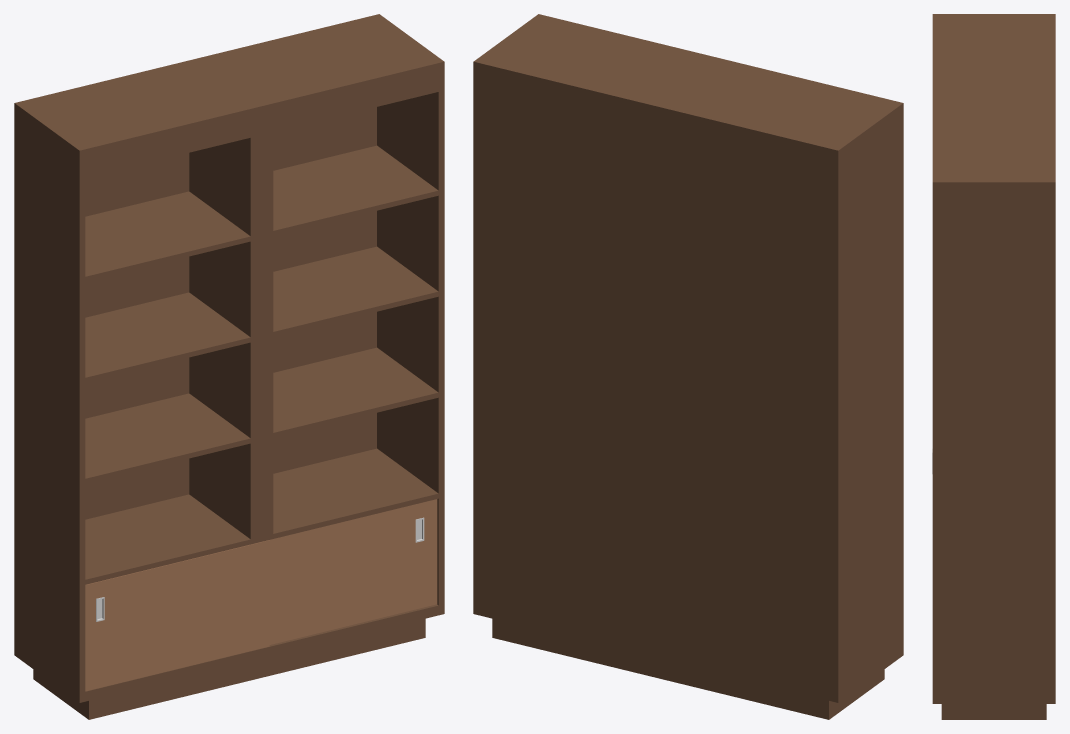
Rendered from Librero.fbx.
3 renders of one model, left to right at view 1: azimuth 30°, elevation 25°; view 2: azimuth 150°, elevation 25°; view 3: azimuth 270°, elevation 25°, orthographic. The views are drawn at different scales.
Parts seen in each view (by area): view 1: Librero_base, Librero_puerta01, Librero_puerta02; view 2: Librero_base; view 3: Librero_base.
Part boxes in pixels (box(x1,y1,x2,y2)): Librero_base: box(14, 14, 444, 719); Librero_puerta01: box(85, 540, 269, 691); Librero_puerta02: box(269, 499, 437, 644); Librero_base: box(473, 14, 903, 719); Librero_base: box(932, 14, 1055, 719).
Bounding box in the file's own units: 6.97 × 10.52 × 2.16.
